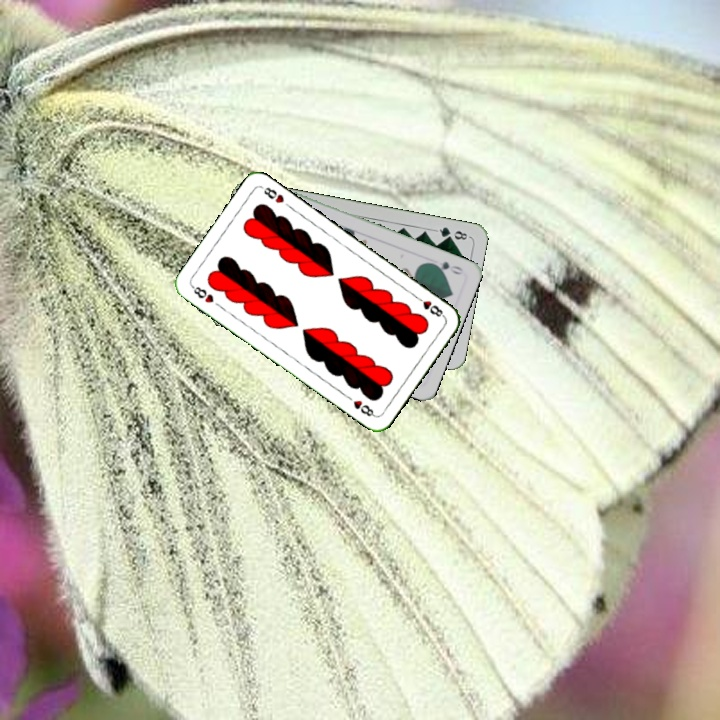G8: (432, 223, 472, 242)
GO: (426, 257, 466, 277)
H8: (411, 292, 447, 320), (188, 282, 216, 306)
